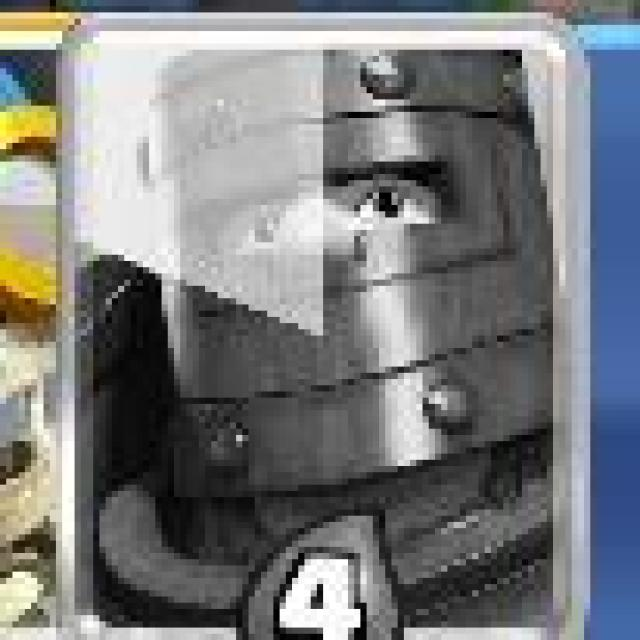Dark_Prince: (53, 14, 589, 640)
